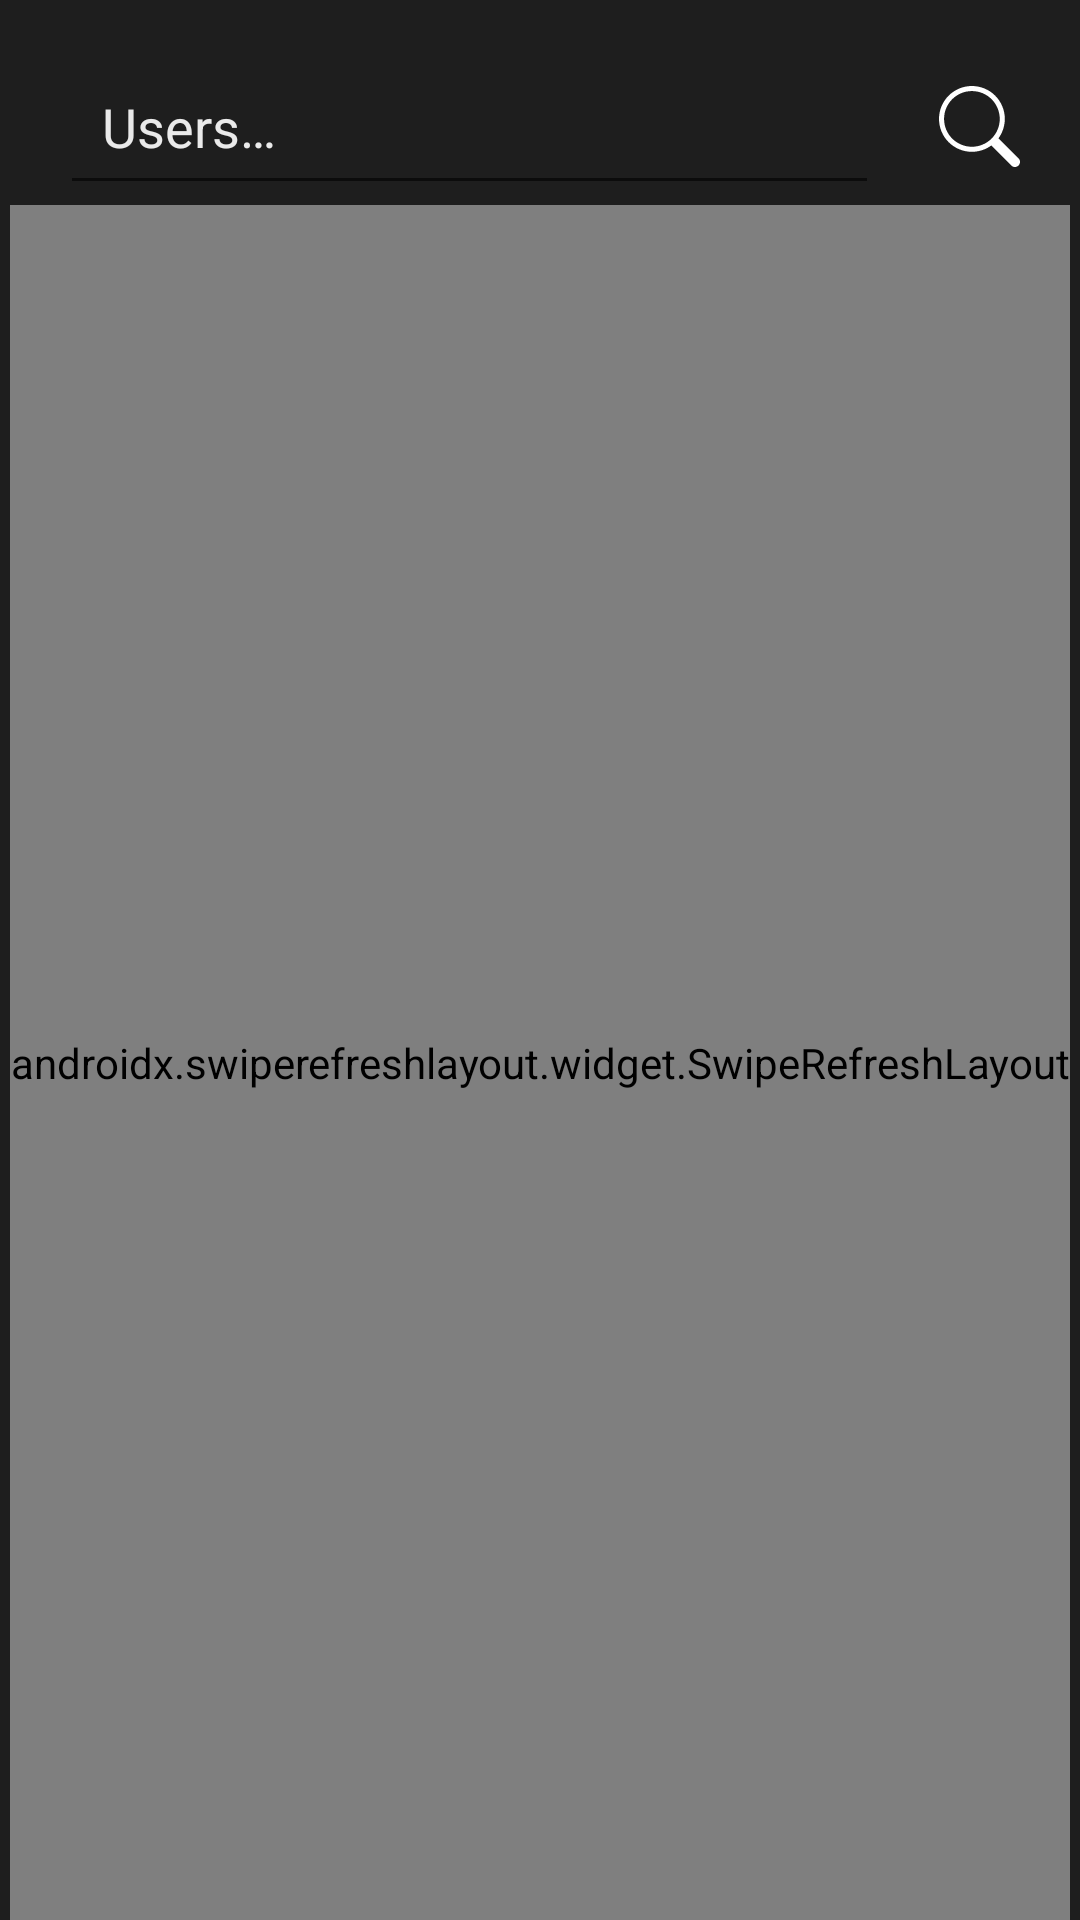

Named icons in this screenshot (1080×1920) and their centers, (x=x, y=y):
Search…: (x=979, y=126)
